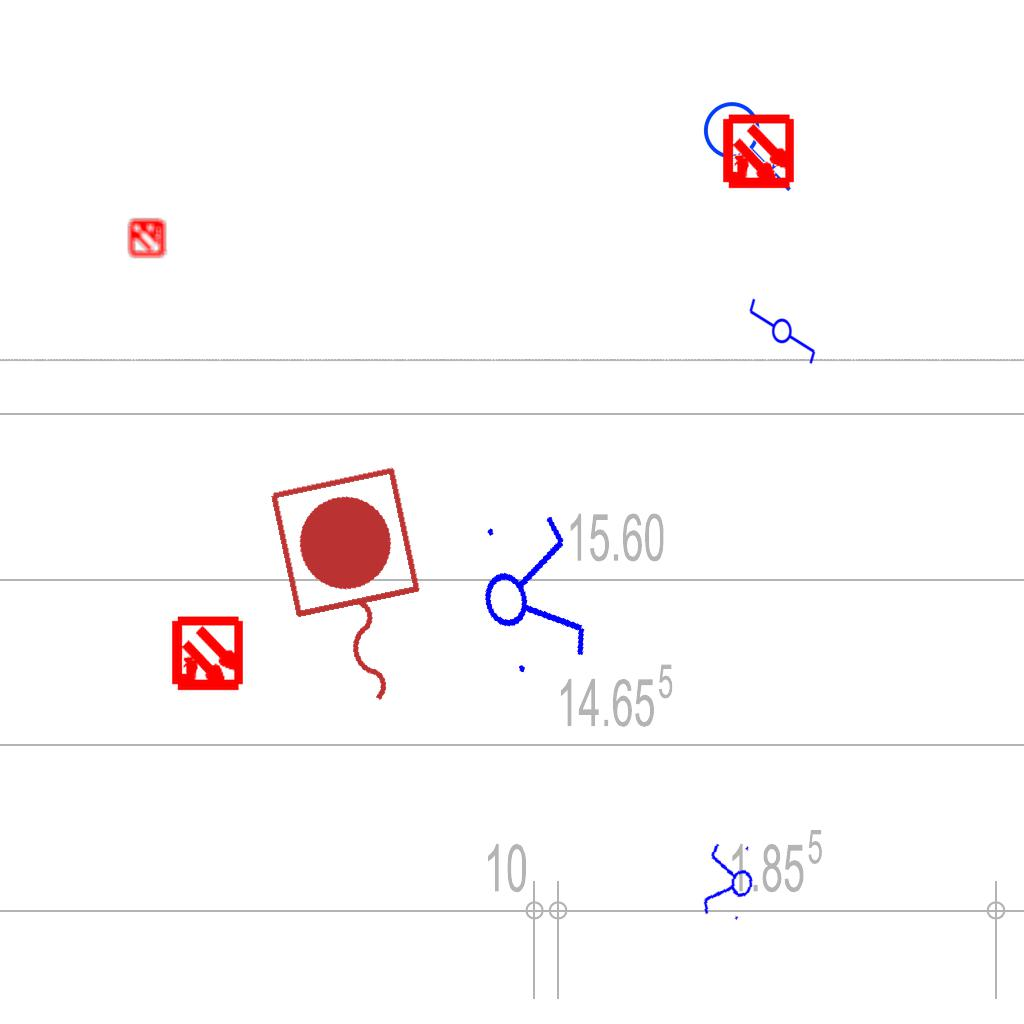Elektroanschluss_allgemein_230V_Geraeteanschlussdose_230V: (702, 93, 796, 192)
OT_Multisensormelder_(Kombination_RMO_WMD): (151, 599, 264, 712), (702, 97, 815, 210), (118, 208, 176, 266)
Serienschalter: (465, 500, 597, 686), (698, 836, 760, 928)
Wechselschalter: (747, 288, 819, 366)
Zugtaster: (258, 457, 450, 727)
